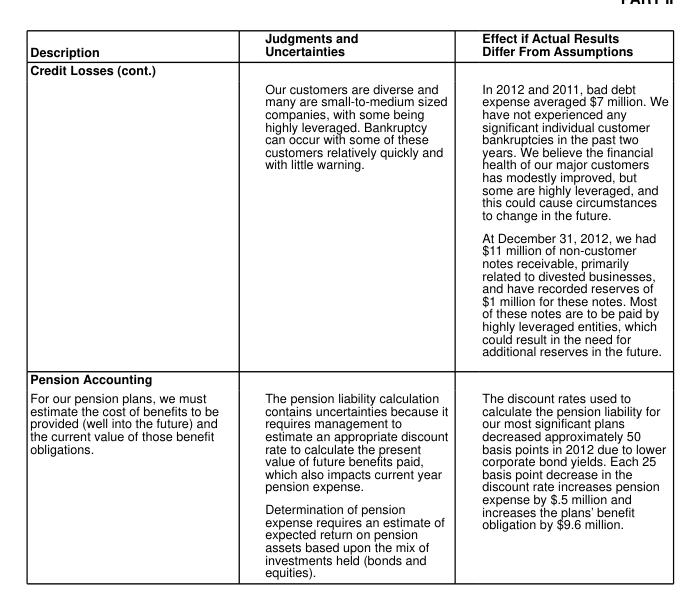table: (29, 28, 667, 580)
table column: (241, 28, 464, 580), (29, 28, 241, 580), (464, 28, 667, 580)
table column header: (29, 28, 667, 59)
table projected row header: (29, 364, 667, 387), (29, 59, 667, 78)
table row: (29, 78, 667, 364), (29, 387, 667, 580), (29, 28, 667, 59), (29, 364, 667, 387), (29, 59, 667, 78)
